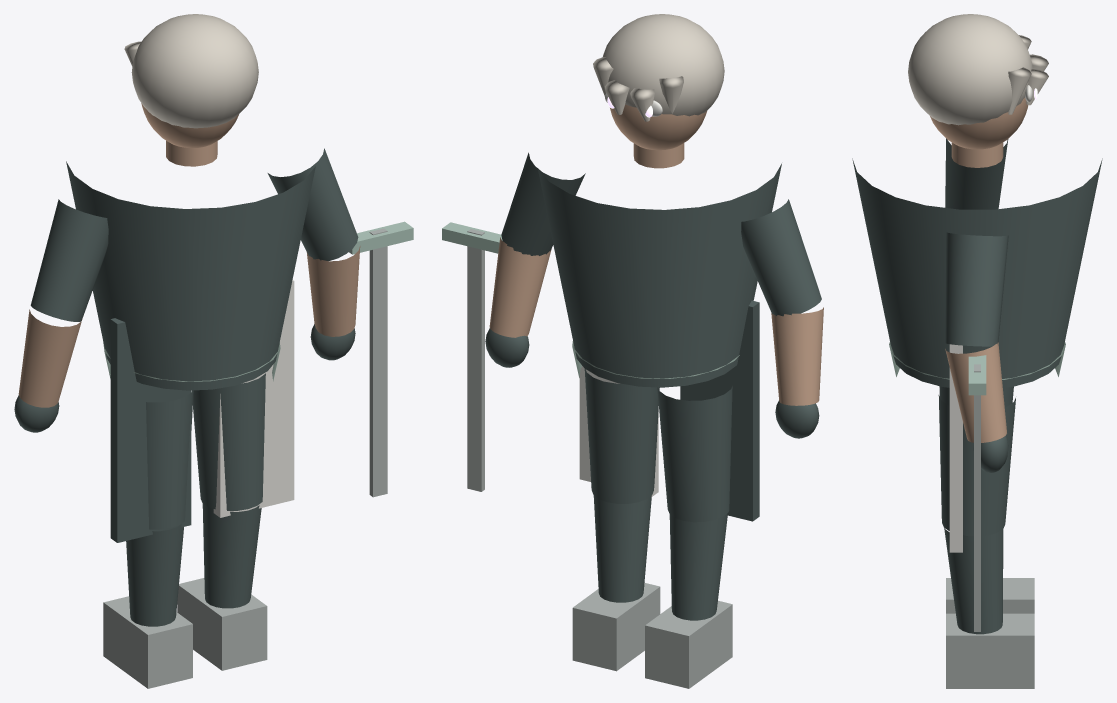
Rendered from mire-procedural-v1.glb.
3 renders of one model, left to right at view 1: azimuth 30°, elevation 25°; view 2: azimuth 150°, elevation 25°; view 3: azimuth 270°, elevation 25°, orthographic. The views are drawn at different scales.
Parts seen in each view (by area): view 1: Outfit_Torso, Hair_Cap, Outfit_CoatTail_L, Body_Thigh_R, Body_UpperArm_L, Outfit_CoatTail_R, Outfit_Boot_L, Body_Thigh_L, Outfit_Boot_R, Body_Shin_R, Weapon_SwordBlade, Body_Shin_L (+8 smaller); view 2: Outfit_Torso, Hair_Cap, Body_Thigh_L, Body_Thigh_R, Outfit_CoatTail_L, Body_UpperArm_L, Outfit_Boot_L, Outfit_Boot_R, Body_Shin_R, Body_Shin_L, Weapon_SwordBlade, Body_Forearm_L (+9 smaller); view 3: Outfit_Torso, Hair_Cap, Body_UpperArm_R, Outfit_Boot_R, Body_Thigh_R, Body_Shin_R, Body_Forearm_R, Body_UpperArm_L, Outfit_CoatTail_R, Body_Head, Weapon_SwordBlade, Outfit_Boot_L (+5 smaller).
Boxes of the visible parts, x1,y1,x2,y2 form: Outfit_Torso: (66, 161, 315, 390); Hair_Cap: (131, 14, 258, 128); Outfit_CoatTail_L: (110, 318, 191, 542); Body_Thigh_R: (191, 373, 265, 510); Body_UpperArm_L: (30, 199, 108, 321); Outfit_CoatTail_R: (213, 280, 294, 517); Outfit_Boot_L: (103, 596, 192, 688); Body_Thigh_L: (146, 390, 193, 529); Outfit_Boot_R: (177, 578, 267, 670); Body_Shin_R: (202, 503, 261, 608); Weapon_SwordBlade: (369, 228, 387, 497); Body_Shin_L: (126, 524, 183, 626); Outfit_Torso: (537, 163, 781, 387); Hair_Cap: (603, 14, 724, 116); Body_Thigh_L: (657, 386, 732, 522); Body_Thigh_R: (584, 369, 659, 503); Outfit_CoatTail_L: (680, 300, 759, 521); Body_UpperArm_L: (741, 199, 821, 316); Outfit_Boot_L: (645, 600, 732, 688); Outfit_Boot_R: (572, 583, 660, 671); Body_Shin_R: (593, 495, 651, 602); Body_Shin_L: (669, 514, 727, 620); Weapon_SwordBlade: (467, 229, 484, 491); Body_Forearm_L: (771, 307, 823, 405); Outfit_Torso: (852, 158, 1102, 387); Hair_Cap: (908, 14, 1032, 125); Body_UpperArm_R: (945, 232, 1008, 346); Outfit_Boot_R: (946, 613, 1034, 688); Body_Thigh_R: (938, 395, 1015, 536); Body_Shin_R: (944, 527, 1003, 634); Body_Forearm_R: (945, 342, 1006, 442); Body_UpperArm_L: (945, 138, 1008, 209); Outfit_CoatTail_R: (949, 344, 962, 552); Body_Head: (930, 98, 1028, 149); Weapon_SwordBlade: (974, 364, 980, 631); Outfit_Boot_L: (946, 578, 1034, 613).
Bounding box in the file's own units: 1.15 × 1.83 × 0.6494.
